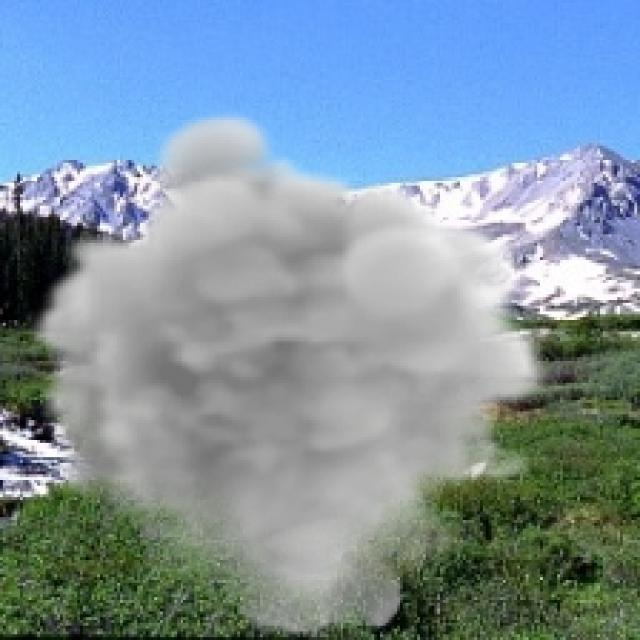Smoke: (29, 105, 552, 638)
